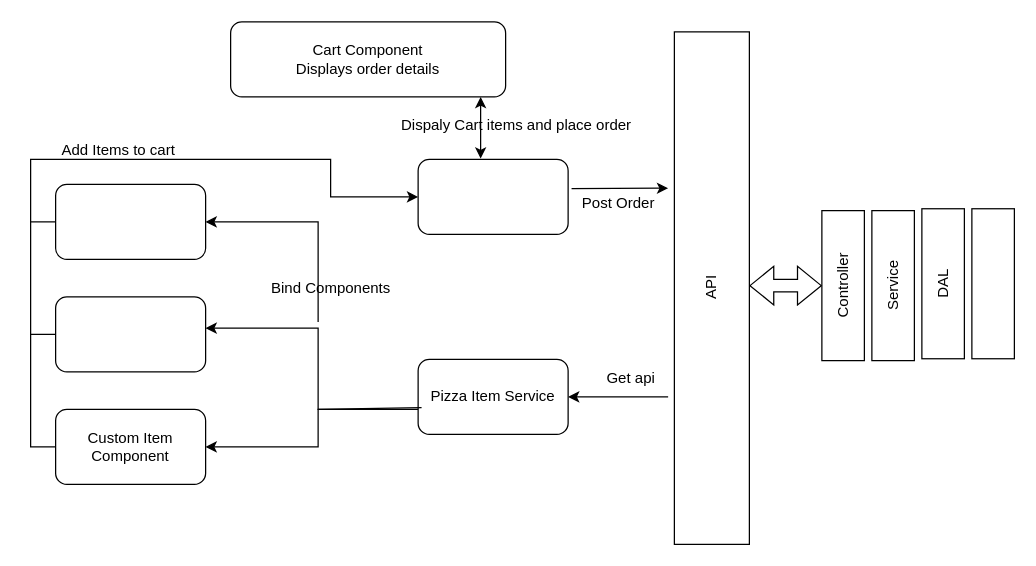
The diagram is 1036 pixels wide and 566 high, and some of its shapes have lost their labels. The centre of each missing label's shape, as x and y in pixels:
Cart Service: point 492,196
DB: point 992,283
Non Pizza Item Component: point 130,334
Pizza Component: point 130,221
